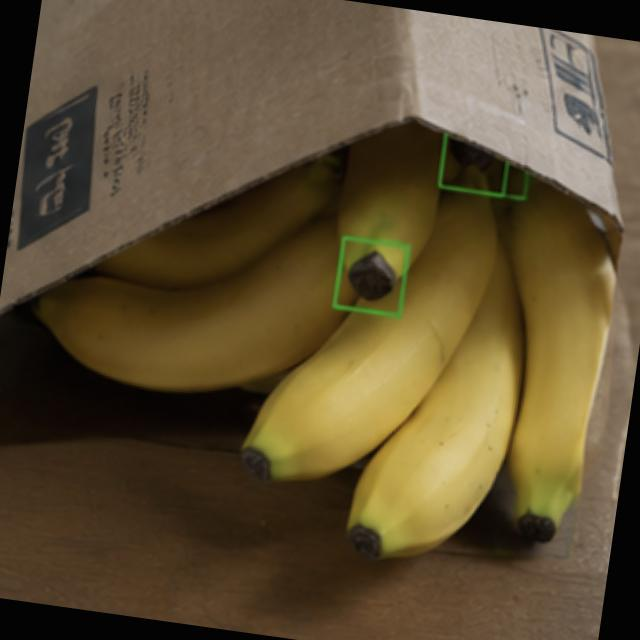Fruit-Stem-Detection: (472, 462, 584, 567), (332, 234, 411, 328), (340, 500, 419, 585), (239, 421, 304, 511)
